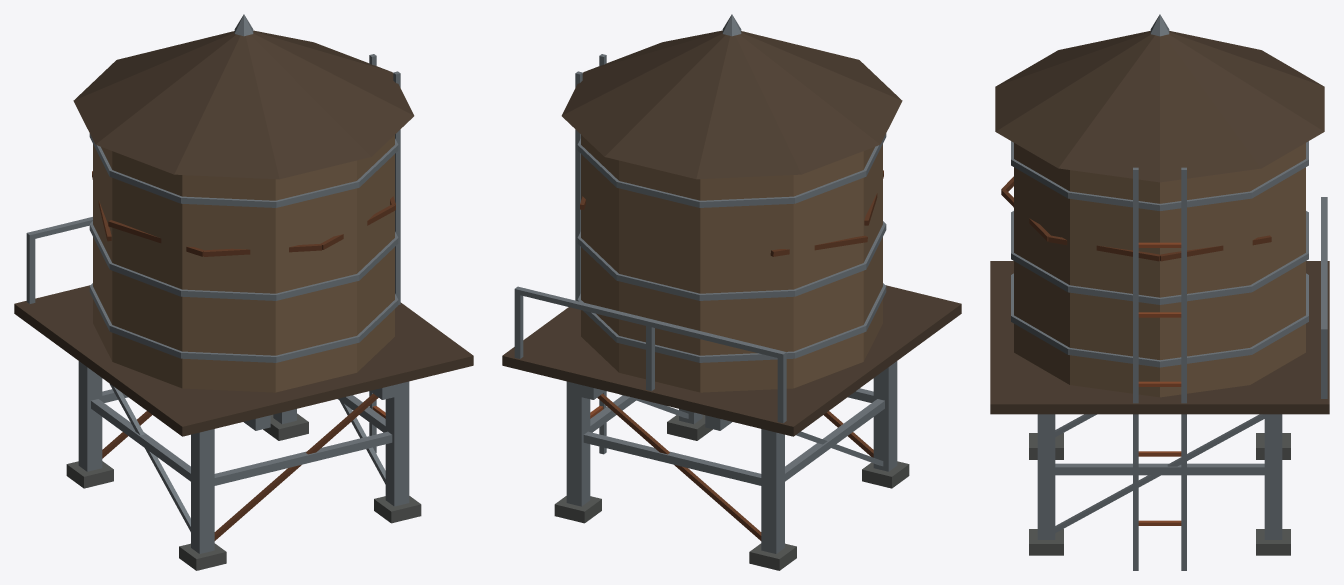
File: roof_water_tank_ny.glb
3 views of the same model, side by side, from view 1: azimuth 30°, elevation 25°; view 2: azimuth 150°, elevation 25°; view 3: azimuth 270°, elevation 25° (orthographic).
Visible parts, largest first — view 1: roof_water_tank_ny; view 2: roof_water_tank_ny; view 3: roof_water_tank_ny.
Part boxes in pixels (box(x1,y1,x2,y2)): roof_water_tank_ny: box(14, 14, 473, 570); roof_water_tank_ny: box(502, 14, 961, 570); roof_water_tank_ny: box(990, 14, 1329, 570).
Size of the model in its own units: 3.16 by 4.9 by 3.1.
3 materials, 3 textured.
